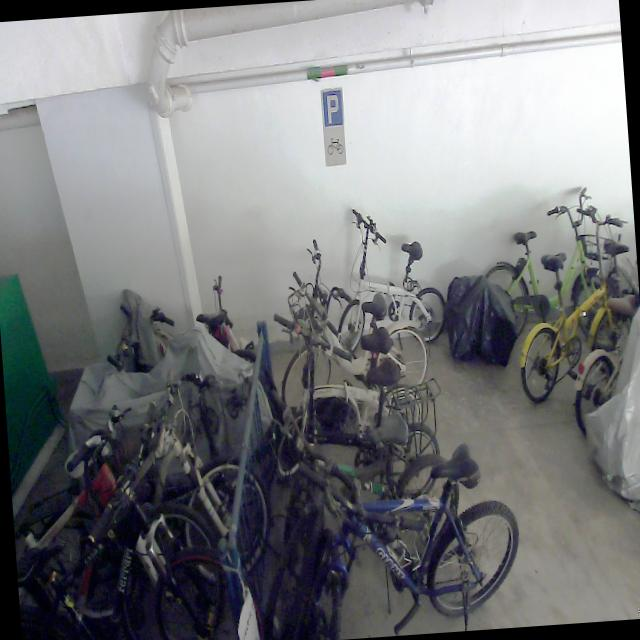bike: (30, 365, 272, 604), (250, 437, 523, 640), (6, 396, 230, 640), (272, 386, 466, 565), (270, 229, 430, 405), (266, 303, 426, 477), (508, 200, 640, 402), (476, 182, 622, 359), (329, 200, 449, 354)
